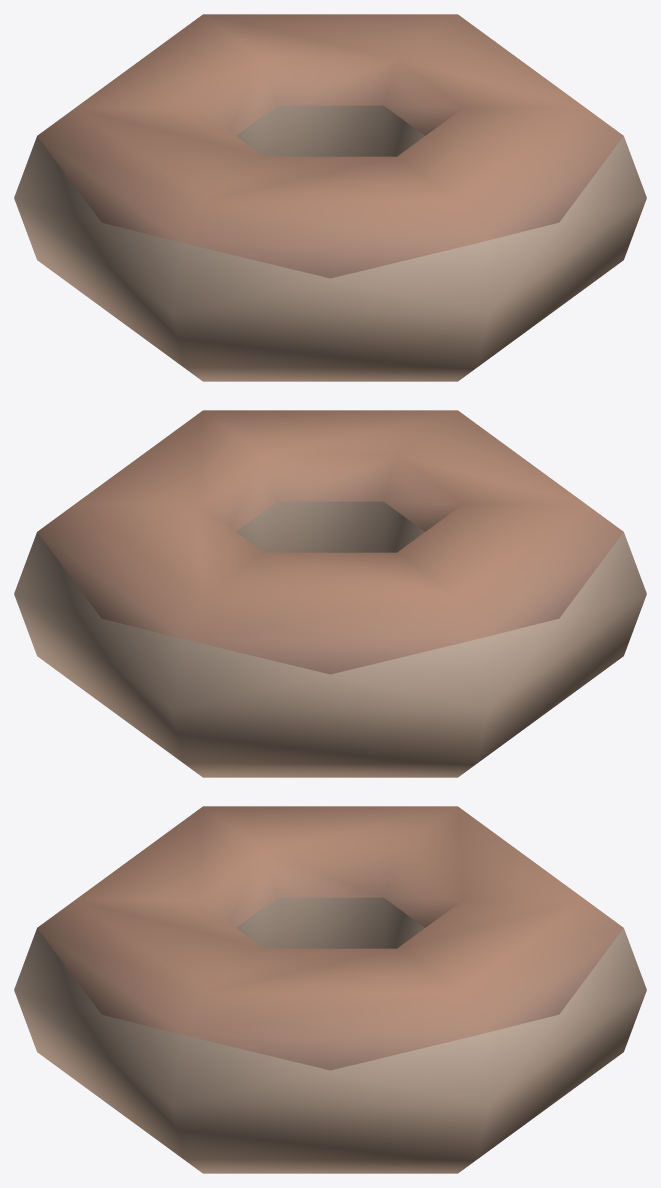
The model's file is donut-chocolate.glb.
The picture shows the model from 3 angles, top to bottom: view 1: azimuth 30°, elevation 25°; view 2: azimuth 150°, elevation 25°; view 3: azimuth 270°, elevation 25°; orthographic projection.
Visible parts, largest first — view 1: donut-chocolate; view 2: donut-chocolate; view 3: donut-chocolate.
Part boxes in pixels (x1=…): donut-chocolate: x1=14, y1=14, x2=646, y2=381; donut-chocolate: x1=14, y1=410, x2=646, y2=777; donut-chocolate: x1=14, y1=806, x2=646, y2=1173.
Size of the model in its own units: 0.2451 by 0.0889 by 0.283.
